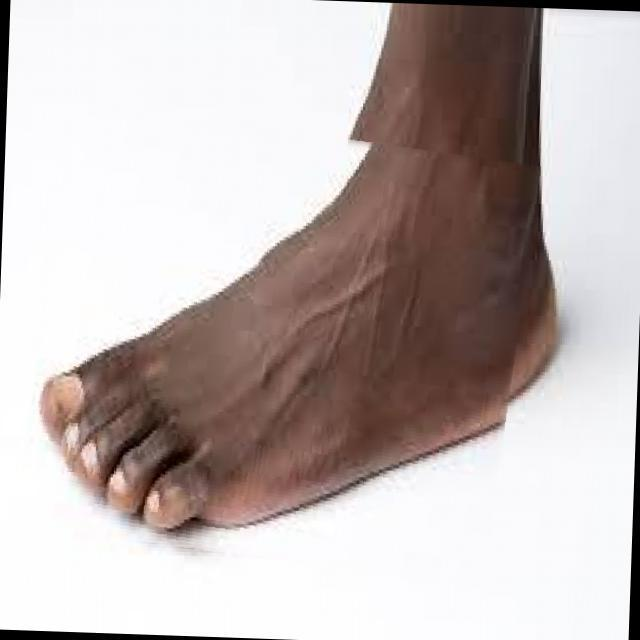No_Shoes: (29, 149, 574, 569)
